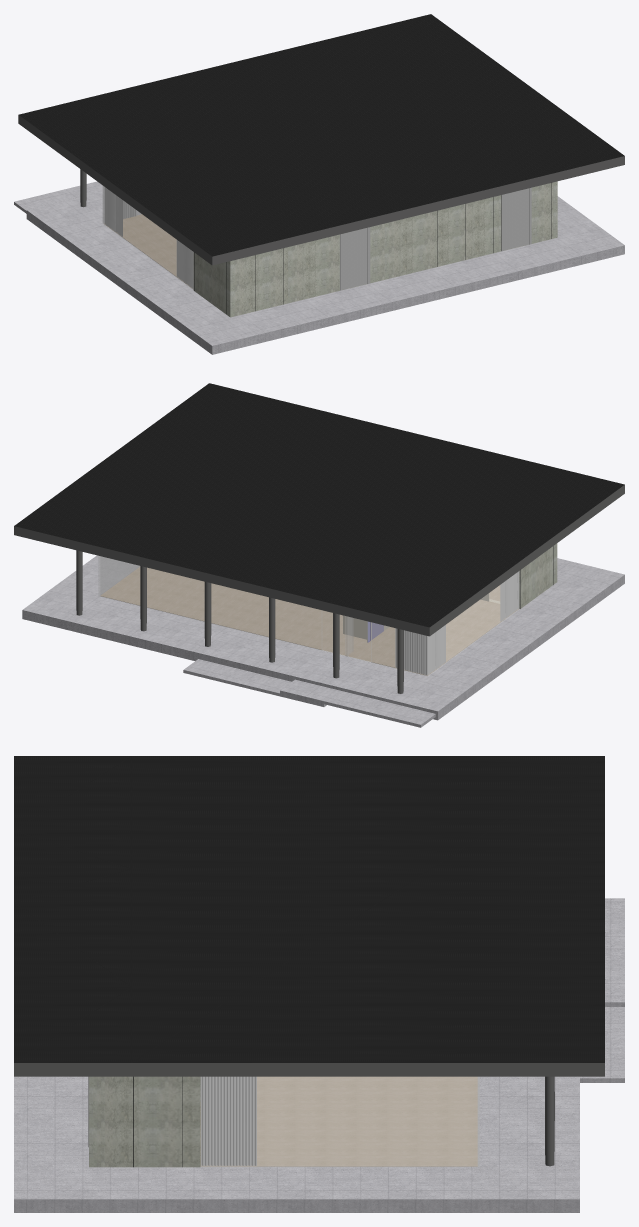
File: Module1.glb
The picture shows the model from 3 angles, top to bottom: view 1: azimuth 30°, elevation 25°; view 2: azimuth 150°, elevation 25°; view 3: azimuth 270°, elevation 25°; orthographic projection. The views are drawn at different scales.
Parts seen in each view (by area): view 1: Этаж по умолчанию, Внешняя отделка, Concrete, Металл - Стальной лист, полированный, Стекло, прозрачное остекление, Штукатурка, Пол, Пластмасса; view 2: Этаж по умолчанию, Внешняя отделка, Стекло, прозрачное остекление, Пол, Металл - Стальной лист, полированный, Пластмасса, Concrete, Бежевая штукатурка; view 3: Этаж по умолчанию, Внешняя отделка, Стекло, прозрачное остекление, Пол, Concrete, Металл - Стальной лист, полированный, Пластмасса.
Boxes of the visible parts, x1,y1,x2,y2 form: Этаж по умолчанию: (19,14,624,314); Внешняя отделка: (14,181,624,354); Concrete: (193,181,557,317); Металл - Стальной лист, полированный: (18,115,624,265); Стекло, прозрачное остекление: (102,185,193,289); Штукатурка: (340,187,531,290); Пол: (104,214,192,288); Пластмасса: (104,187,193,288); Этаж по умолчанию: (14,383,624,627); Внешняя отделка: (22,555,624,727); Стекло, прозрачное остекление: (98,556,519,676); Пол: (100,567,518,675); Металл - Стальной лист, полированный: (14,485,624,693); Пластмасса: (395,571,518,674); Concrete: (519,543,557,608); Бежевая штукатурка: (343,574,519,640); Этаж по умолчанию: (14,756,604,1167); Внешняя отделка: (14,898,624,1212); Стекло, прозрачное остекление: (201,1076,479,1166); Пол: (200,1076,477,1166); Concrete: (89,1076,200,1167); Металл - Стальной лист, полированный: (14,1063,604,1166); Пластмасса: (200,1076,256,1165).
Bounding box in the file's own units: 14.5 × 3.3 × 12.2.
Materials: 12 (5 with a texture image).
